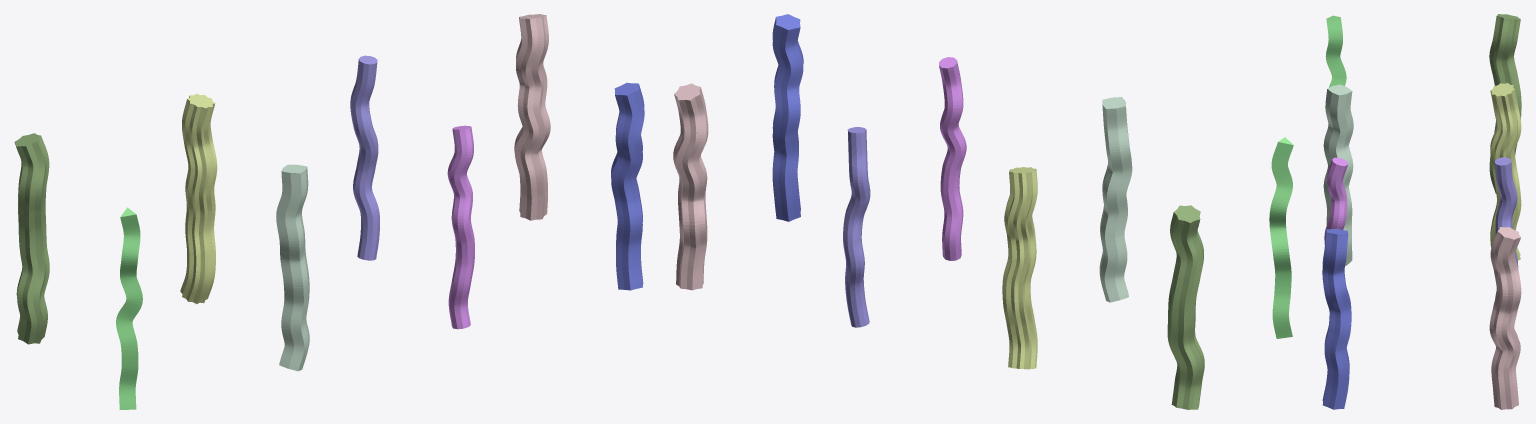
The model's file is Lambert_Opened Spline_2023-07-23-20-47-44.gltf.
3 renders of one model, left to right at view 1: azimuth 30°, elevation 25°; view 2: azimuth 150°, elevation 25°; view 3: azimuth 270°, elevation 25°, orthographic. The views are drawn at different scales.
Size of the model in its own units: 638 by 234 by 236.
